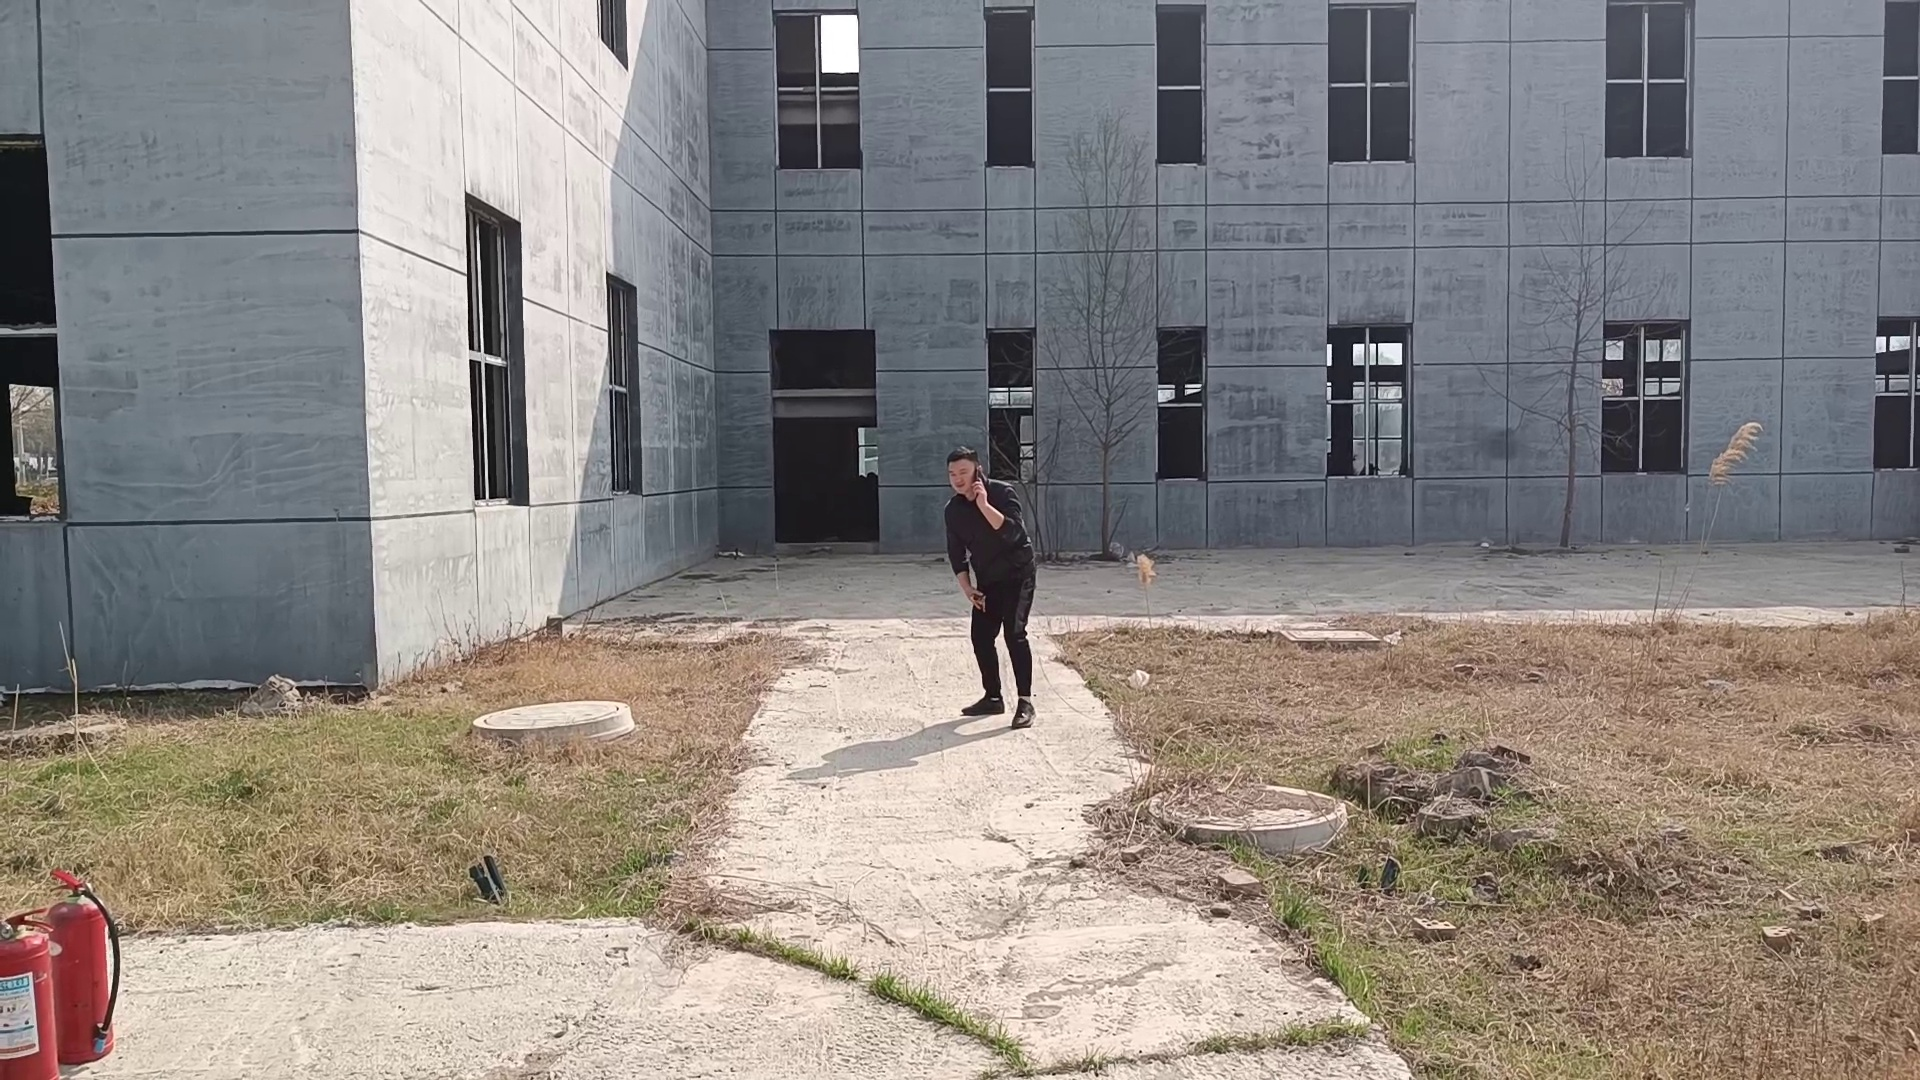phone: (945, 444, 992, 502)
